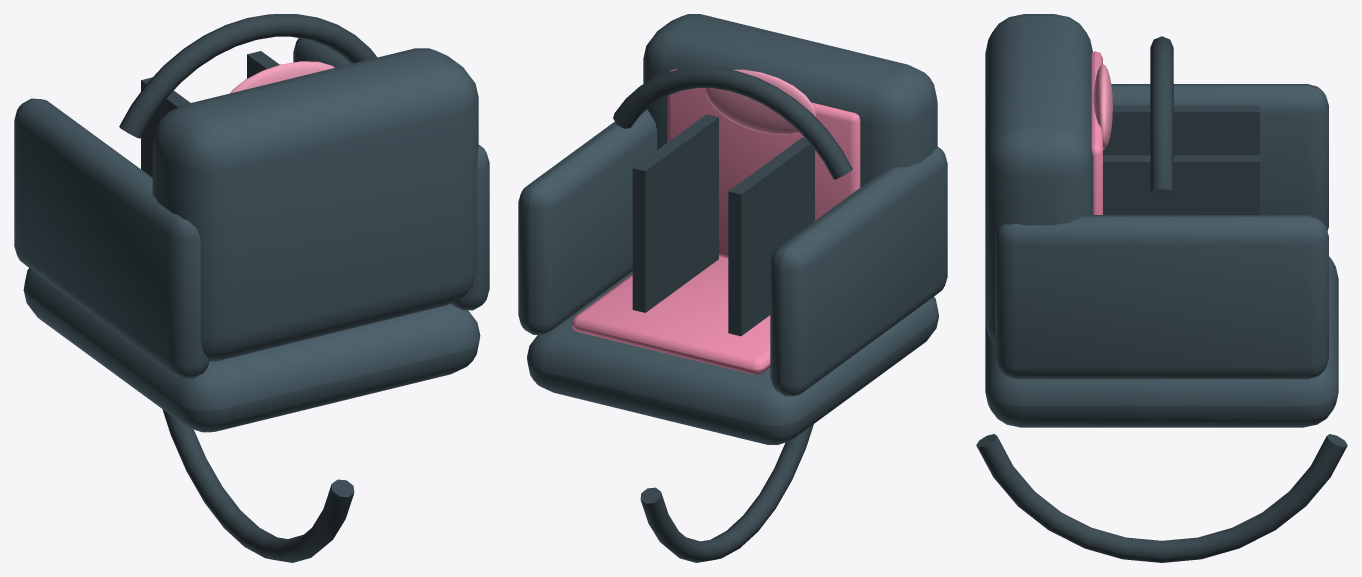
Rendered from car_seat.fbx.
3 views of the same model, side by side, from view 1: azimuth 30°, elevation 25°; view 2: azimuth 150°, elevation 25°; view 3: azimuth 270°, elevation 25° (orthographic). The views are drawn at different scales.
Parts seen in each view (by area): view 1: Baby Car Seat; view 2: Baby Car Seat; view 3: Baby Car Seat.
Part boxes in pixels (x1,y1,x2,y2): Baby Car Seat: (14,14,489,562); Baby Car Seat: (518,14,947,562); Baby Car Seat: (976,14,1347,562).
Size of the model in its own units: 1.8 by 2.87 by 1.89.
